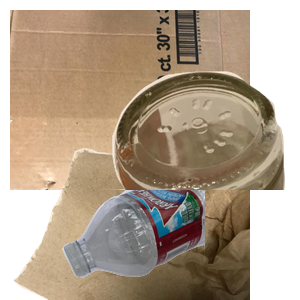cardboard: (10, 10, 250, 190)
glass: (89, 69, 300, 249)
plastic: (60, 190, 300, 280)
trash: (10, 120, 250, 300)
